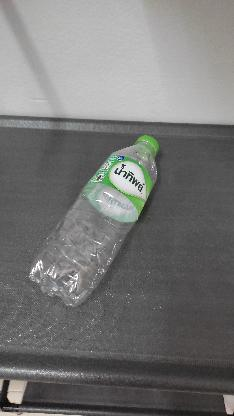Plastic Bottle: (21, 131, 170, 318)
